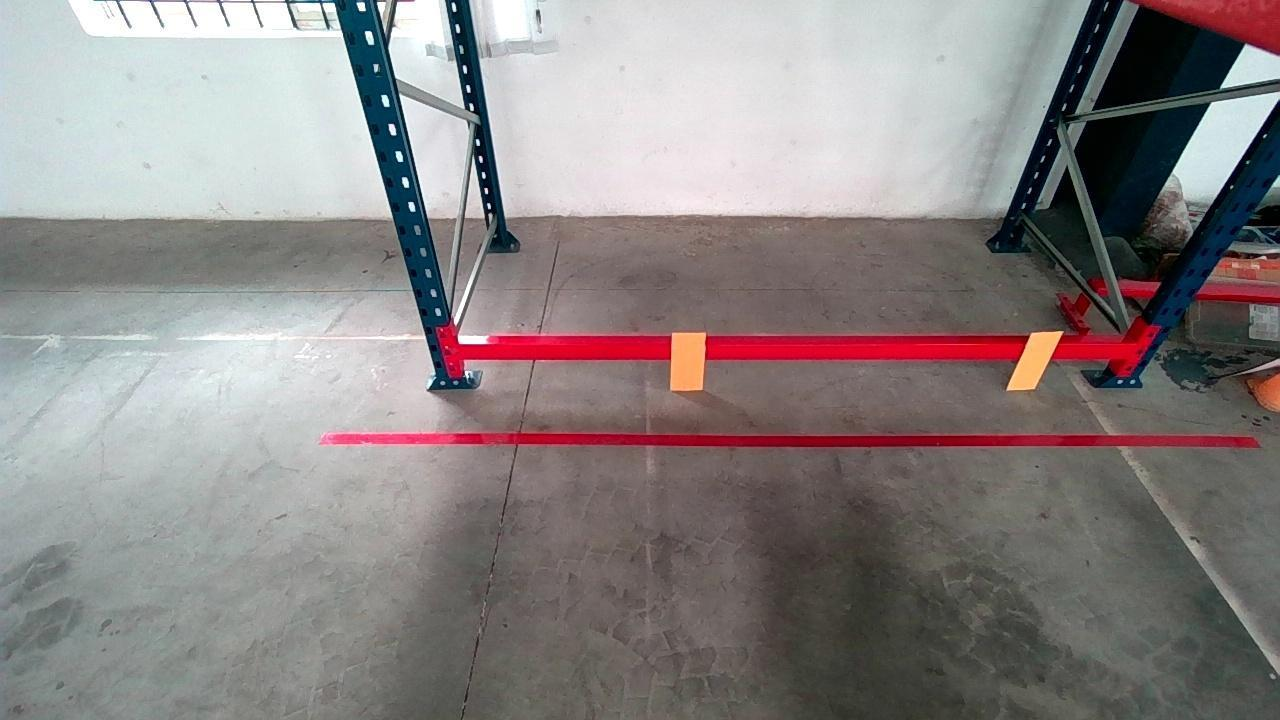h_rack: (457, 343, 1132, 359)
orange_strip: (1007, 330, 1065, 389), (671, 330, 706, 389)
red_line: (319, 434, 1257, 446)
